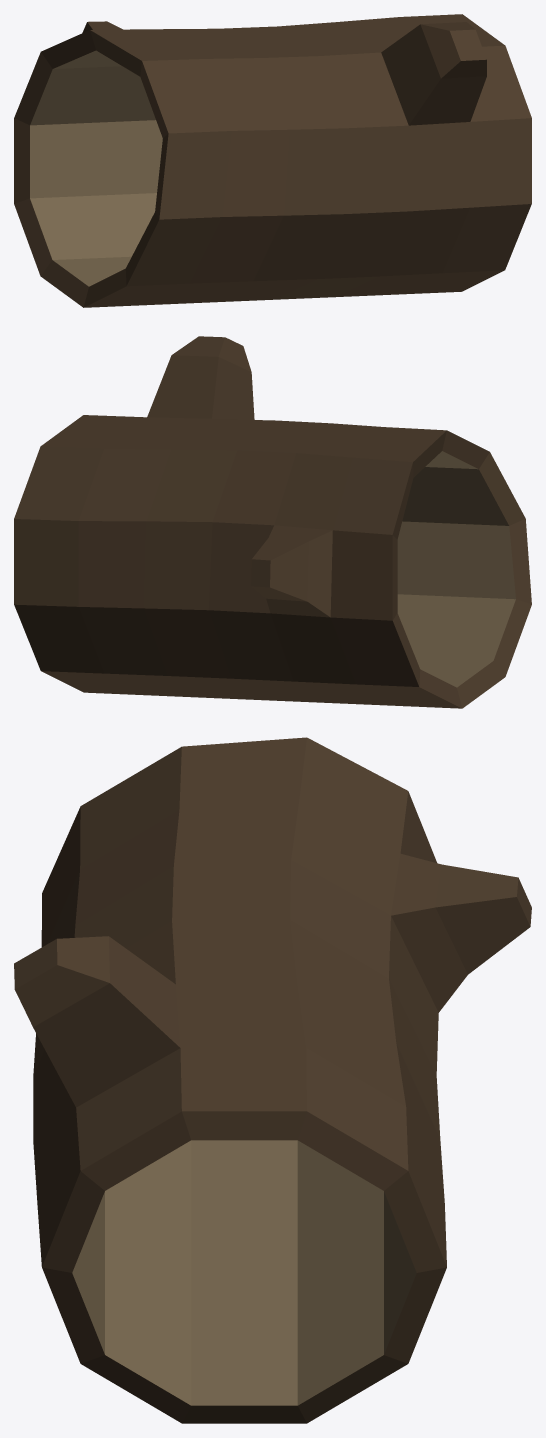
File: OWood.fbx
The picture shows the model from 3 angles, top to bottom: view 1: azimuth 30°, elevation 25°; view 2: azimuth 150°, elevation 25°; view 3: azimuth 270°, elevation 25°; orthographic projection. The views are drawn at different scales.
Parts seen in each view (by area): view 1: odun2; view 2: odun2; view 3: odun2.
Part boxes in pixels (x1,y1,x2,y2): odun2: (14, 14, 531, 307); odun2: (14, 336, 531, 708); odun2: (14, 737, 531, 1423).
Size of the model in its own units: 340 by 238 by 247.
